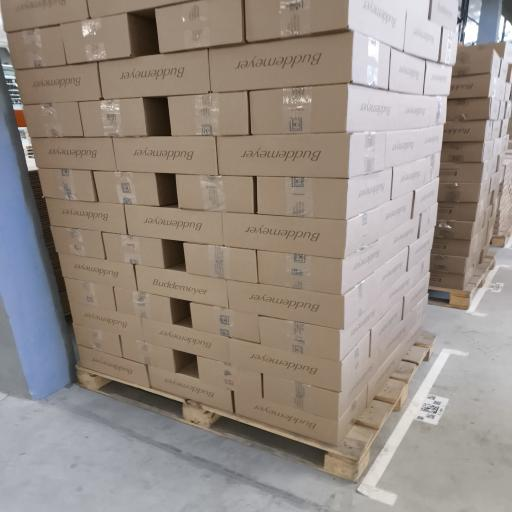pallet: (77, 332, 435, 481), (429, 253, 496, 309), (491, 227, 511, 247)
